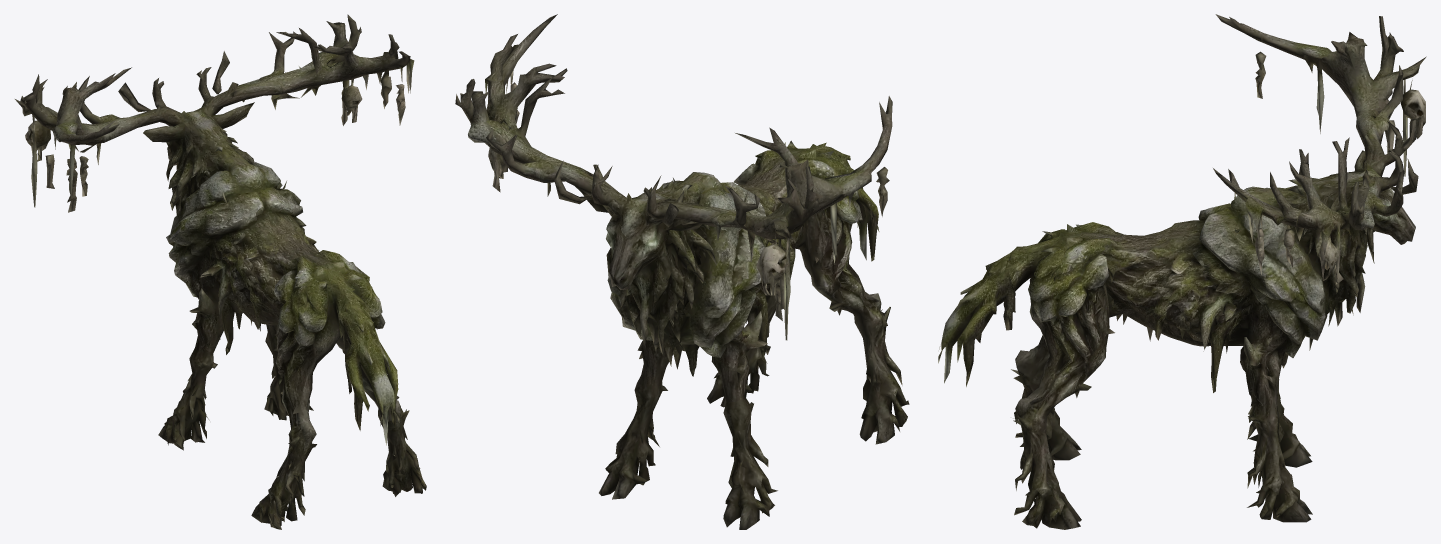
File: wildhunt.glb
3 renders of one model, left to right at view 1: azimuth 30°, elevation 25°; view 2: azimuth 150°, elevation 25°; view 3: azimuth 270°, elevation 25°, orthographic. The views are drawn at different scales.
Parts seen in each view (by area): view 1: tripo_node_82df75d8-4b0b-45fa-ac57-d0f2d692a87e; view 2: tripo_node_82df75d8-4b0b-45fa-ac57-d0f2d692a87e; view 3: tripo_node_82df75d8-4b0b-45fa-ac57-d0f2d692a87e.
Part boxes in pixels (x1=…): tripo_node_82df75d8-4b0b-45fa-ac57-d0f2d692a87e: x1=15, y1=14, x2=426, y2=529; tripo_node_82df75d8-4b0b-45fa-ac57-d0f2d692a87e: x1=455, y1=14, x2=909, y2=529; tripo_node_82df75d8-4b0b-45fa-ac57-d0f2d692a87e: x1=938, y1=14, x2=1426, y2=529.
Size of the model in its own units: 0.959 by 0.9989 by 1.11.
1 material, 1 textured.
